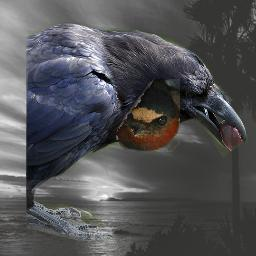Crow: (26, 22, 248, 241)
Swallow: (116, 79, 180, 152)
